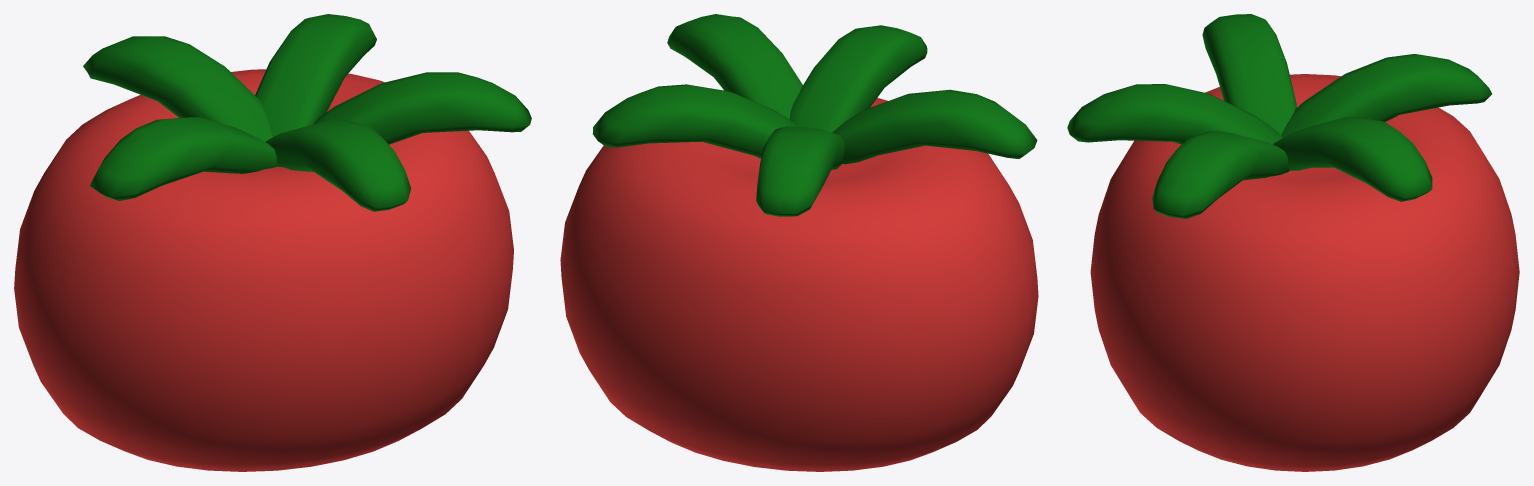
Rendered from kjg_tomate.fbx.
3 views of the same model, side by side, from view 1: azimuth 30°, elevation 25°; view 2: azimuth 150°, elevation 25°; view 3: azimuth 270°, elevation 25° (orthographic). The views are drawn at different scales.
Parts seen in each view (by area): view 1: Sphere, Cube; view 2: Sphere, Cube; view 3: Sphere, Cube.
Boxes of the visible parts, box(x1,y1,x2,y2) form: Sphere: box(14, 69, 513, 471); Cube: box(83, 14, 531, 211); Sphere: box(560, 98, 1038, 471); Cube: box(592, 14, 1037, 216); Sphere: box(1090, 74, 1519, 471); Cube: box(1067, 14, 1491, 218).
Size of the model in its own units: 242 by 176 by 222.
